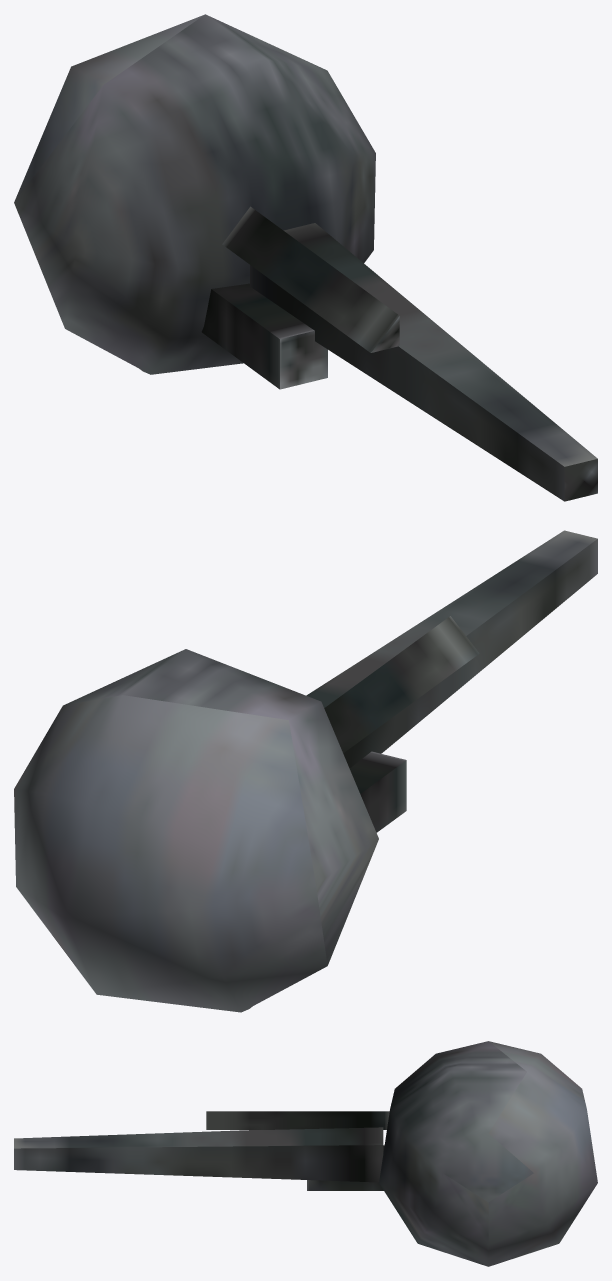
The model's file is imperial_gunboat_turret_ball_l2.fbx.
3 views of the same model, one above another, from view 1: azimuth 30°, elevation 25°; view 2: azimuth 150°, elevation 25°; view 3: azimuth 270°, elevation 25° (orthographic). The views are drawn at different scales.
Visible parts, largest first — view 1: mesh_node; view 2: mesh_node; view 3: mesh_node.
Part boxes in pixels (left/top/right/bottom): mesh_node: left=14, top=14, right=597, bottom=501; mesh_node: left=14, top=530, right=597, bottom=1012; mesh_node: left=14, top=1041, right=597, bottom=1266.
Size of the model in its own units: 3.89 by 3.81 by 10.2.
Materials: 1 (1 with a texture image).
